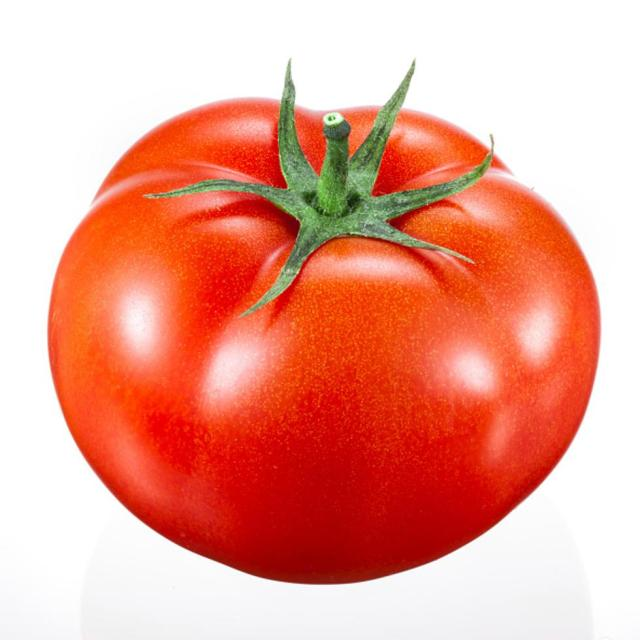Tomato: (60, 108, 592, 587)
